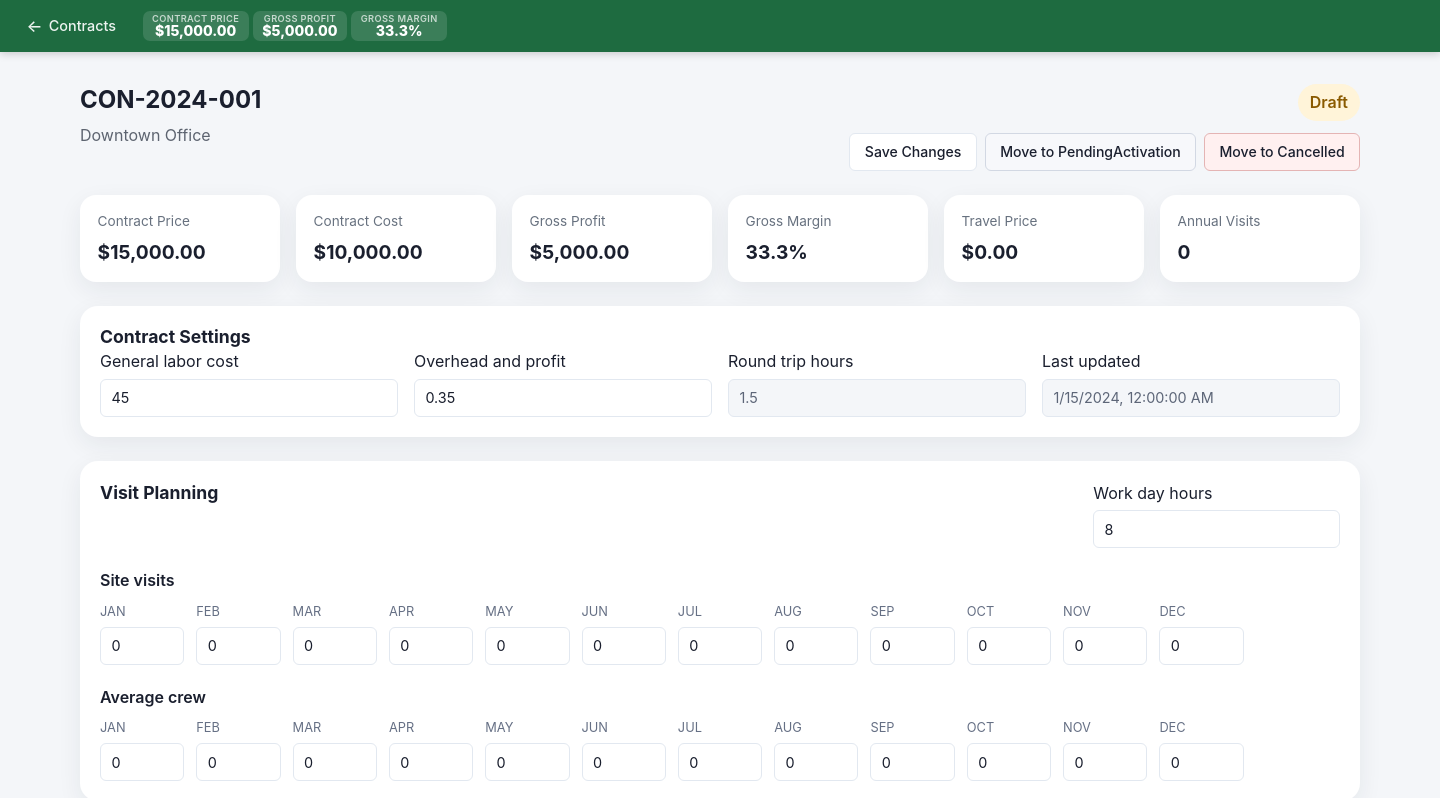
Test: ContractDetail › shows notice after successful transition
Expected: the heading "CON-2024-001" is shown, [80,84,262,115]
Click the button "Move to PendingActivation". click: click(1090, 152)
box: [985,133,1196,171]
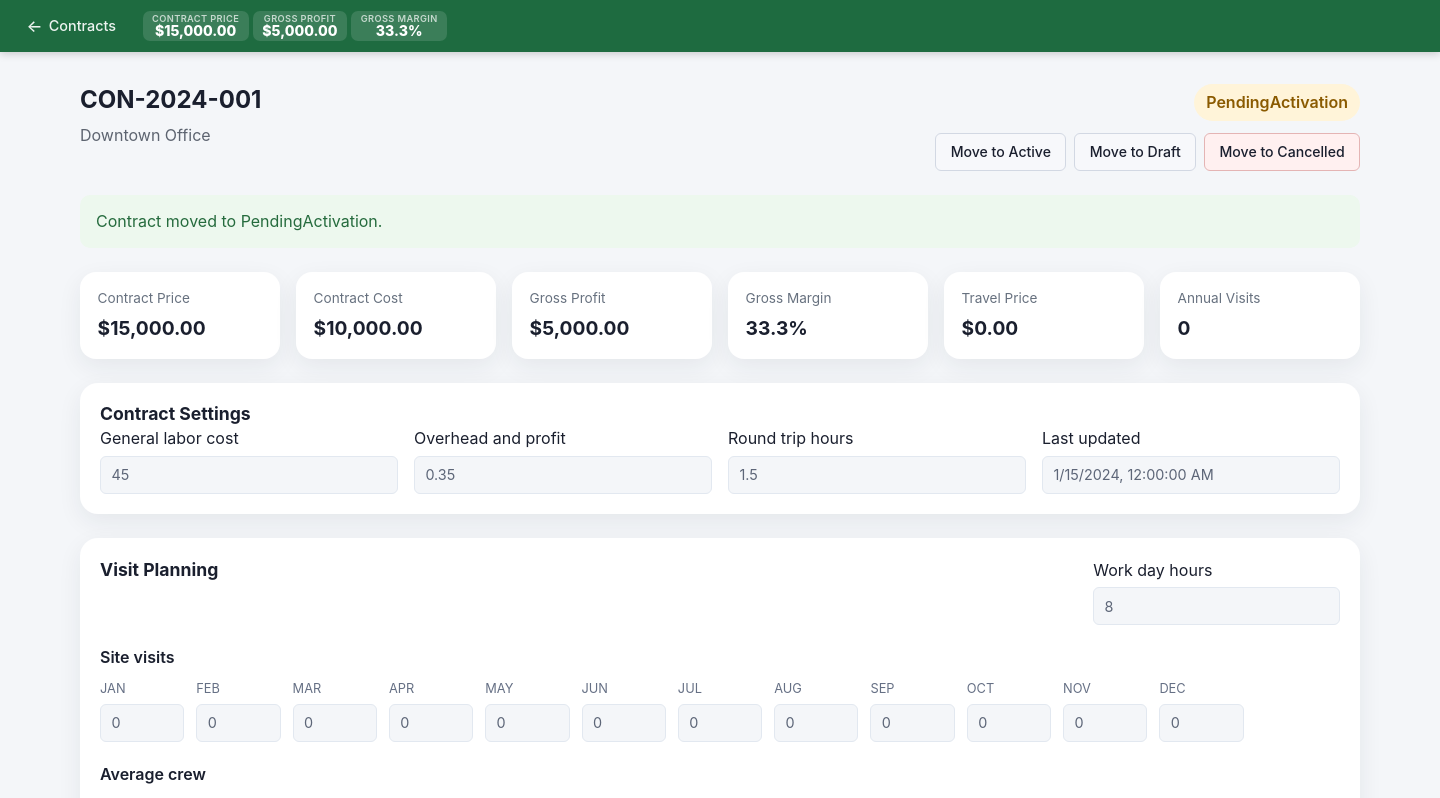
Expected: the text "Contract moved to PendingActivation." is shown, [80,195,1360,248]
